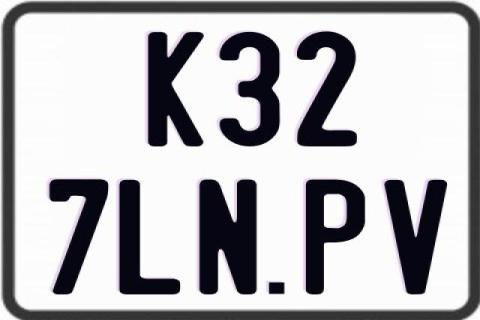0: (297, 31, 362, 150), (46, 179, 106, 297), (217, 32, 278, 146)
K: (146, 30, 206, 146)
L: (118, 180, 182, 294)
N: (196, 177, 255, 297)
P: (304, 178, 363, 296)
V: (382, 180, 447, 294)
